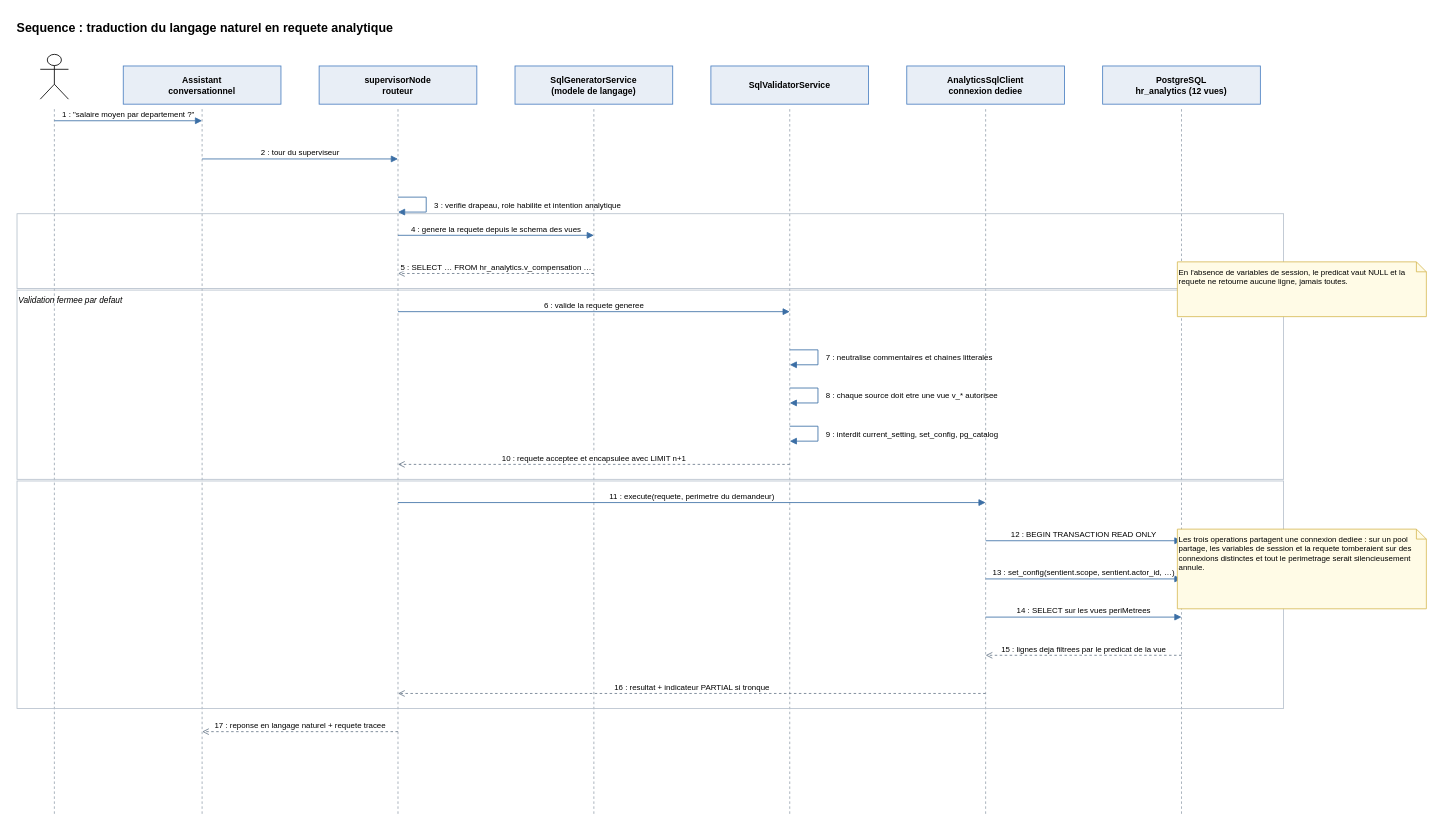
Image size: 1441x832. Some labels were removed from this diagram. Here are the shapes that lost their labels. From the top down, the centre of each, then its label:
pixel 53 76: Administrateur RH
pixel 650 250: Generation
pixel 650 594: Execution perimetree en lecture seule
